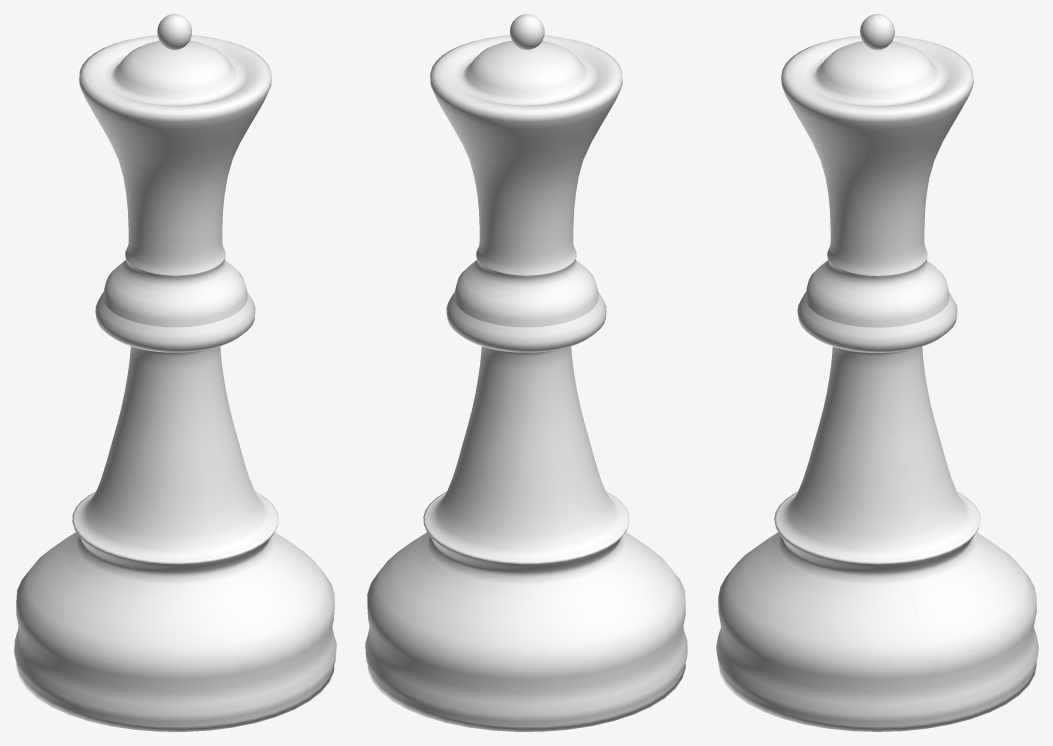
Rendered from Reina_Blanco.glb.
The picture shows the model from 3 angles, left to right: view 1: azimuth 30°, elevation 25°; view 2: azimuth 150°, elevation 25°; view 3: azimuth 270°, elevation 25°; orthographic projection.
Visible parts, largest first — view 1: reina_b; view 2: reina_b; view 3: reina_b.
Boxes of the visible parts, box(x1,y1,x2,y2) form: reina_b: box(14, 14, 336, 731); reina_b: box(365, 14, 687, 731); reina_b: box(716, 14, 1038, 731).
Size of the model in its own units: 0.8307 by 1.85 by 0.8307.
1 material, 1 textured.
